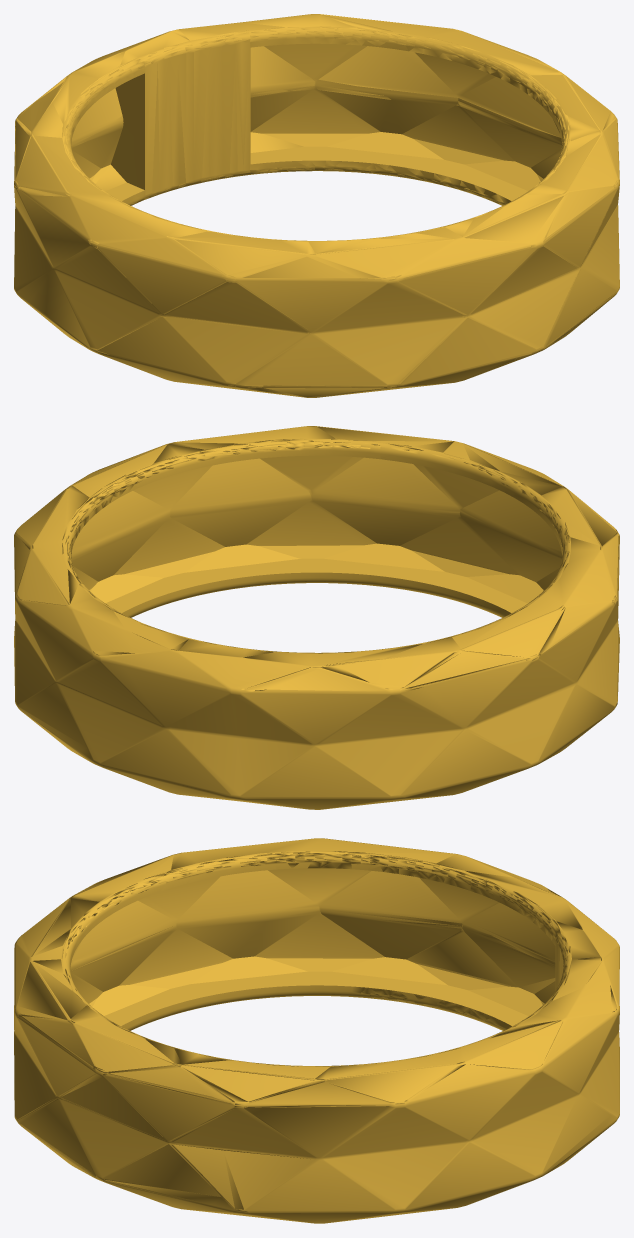
The model's file is ring.glb.
The picture shows the model from 3 angles, top to bottom: view 1: azimuth 30°, elevation 25°; view 2: azimuth 150°, elevation 25°; view 3: azimuth 270°, elevation 25°; orthographic projection.
Visible parts, largest first — view 1: uploads_files_3249046_52+(obj).002; view 2: uploads_files_3249046_52+(obj).002; view 3: uploads_files_3249046_52+(obj).002.
Part boxes in pixels (left/top/right/bottom): uploads_files_3249046_52+(obj).002: left=14, top=14, right=619, bottom=397; uploads_files_3249046_52+(obj).002: left=14, top=426, right=619, bottom=809; uploads_files_3249046_52+(obj).002: left=14, top=838, right=619, bottom=1223.
Size of the model in its own units: 20.42 by 5.34 by 20.34.
